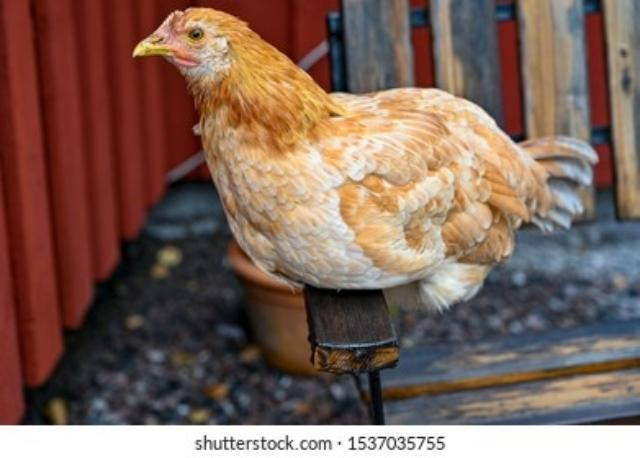Chicken: (134, 6, 598, 313)
